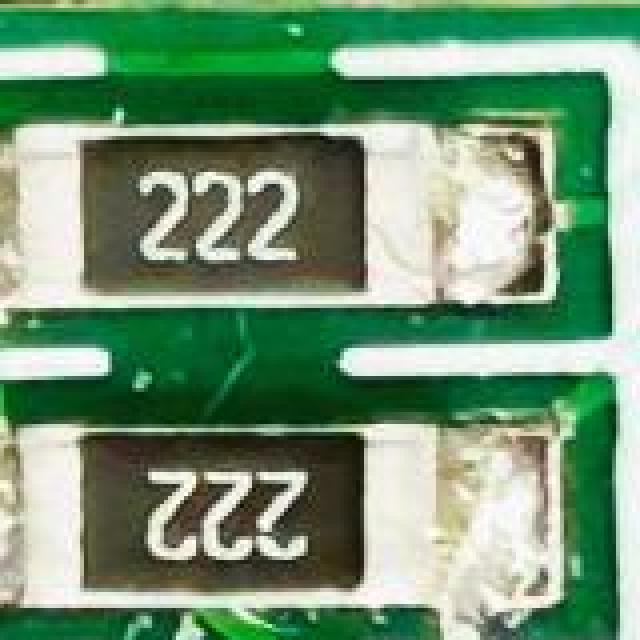resistor: (12, 424, 454, 594), (4, 124, 428, 300)
